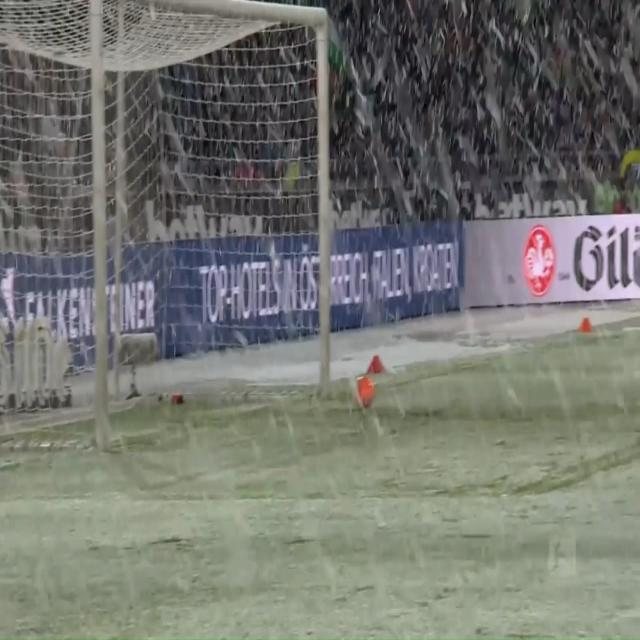ball: (349, 368, 377, 413)
